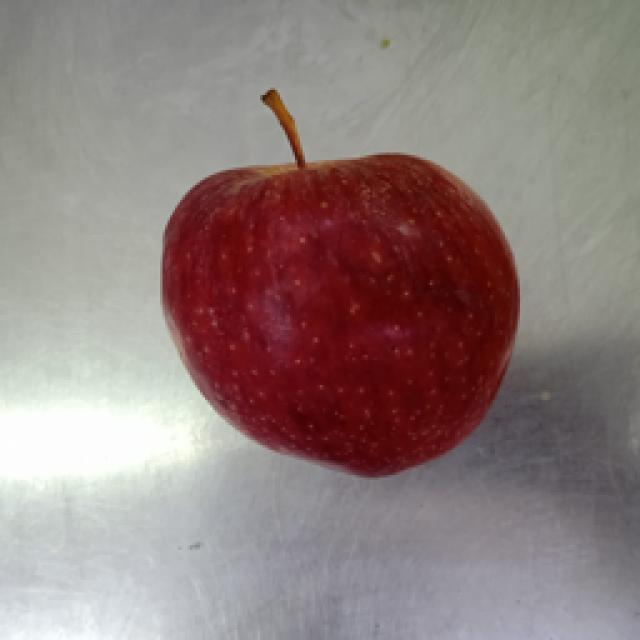Fresh_Apple: (159, 84, 529, 486)
